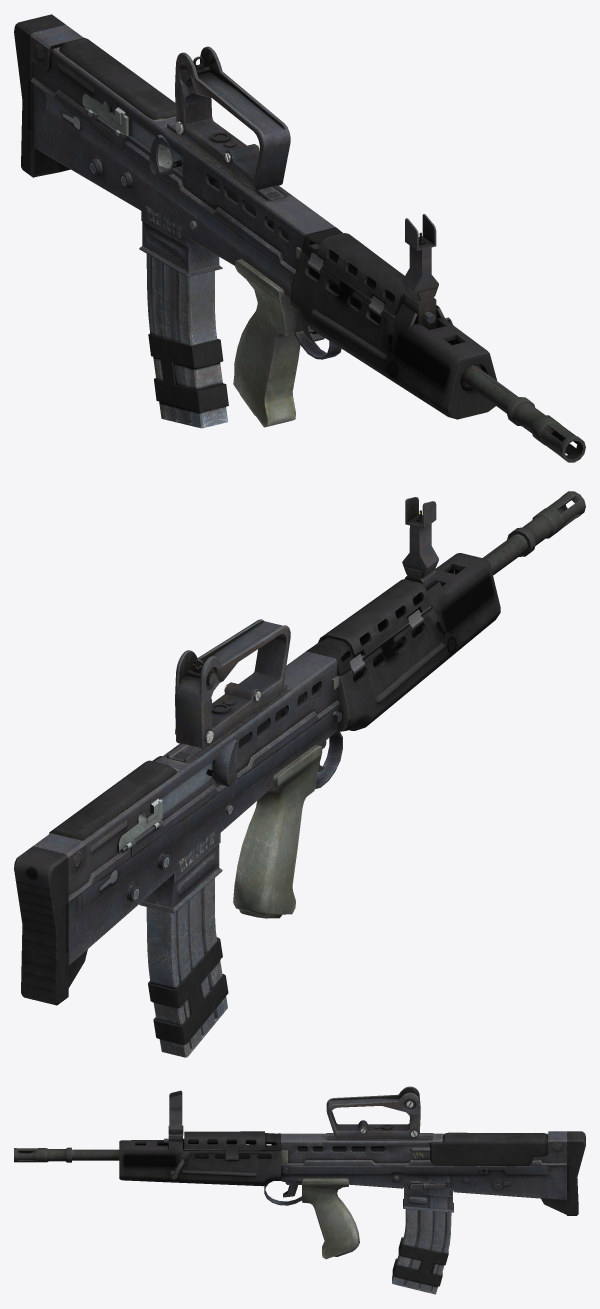
3 renders of one model, top to bottom at view 1: azimuth 30°, elevation 25°; view 2: azimuth 150°, elevation 25°; view 3: azimuth 270°, elevation 25°, orthographic. The views are drawn at different scales.
Parts seen in each view (by area): view 1: Mesh_0011, Mag, Mesh_0014, Mesh_0016, bolt; view 2: Mesh_0011, Mag, Mesh_0014, Mesh_0016, bolt; view 3: Mesh_0011, Mag, Mesh_0014, Mesh_0016.
Boxes of the visible parts, x1=… form: Mesh_0011: x1=14, y1=14, x2=585, y2=462; Mag: x1=146, y1=254, x2=228, y2=428; Mesh_0014: x1=175, y1=46, x2=290, y2=191; Mesh_0016: x1=402, y1=214, x2=438, y2=325; bolt: x1=149, y1=135, x2=182, y2=177; Mesh_0011: x1=14, y1=491, x2=585, y2=1005; Mag: x1=146, y1=878, x2=228, y2=1057; Mesh_0014: x1=175, y1=619, x2=290, y2=749; Mesh_0016: x1=402, y1=497, x2=438, y2=603; bolt: x1=206, y1=740, x2=237, y2=786; Mesh_0011: x1=14, y1=1131, x2=585, y2=1259; Mag: x1=392, y1=1209, x2=451, y2=1294; Mesh_0014: x1=326, y1=1086, x2=420, y2=1138; Mesh_0016: x1=168, y1=1090, x2=183, y2=1141.
Size of the model in its own units: 6.75 by 30.36 by 78.05.
3 materials, 3 textured.
